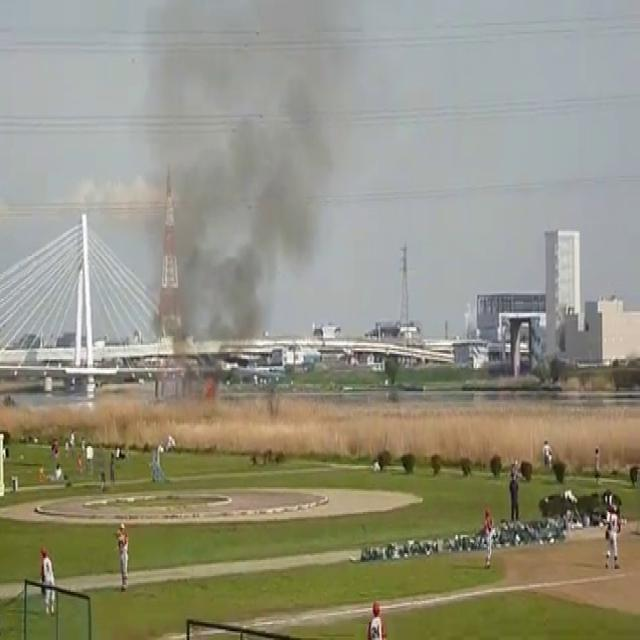Smoke: (125, 1, 368, 335)
